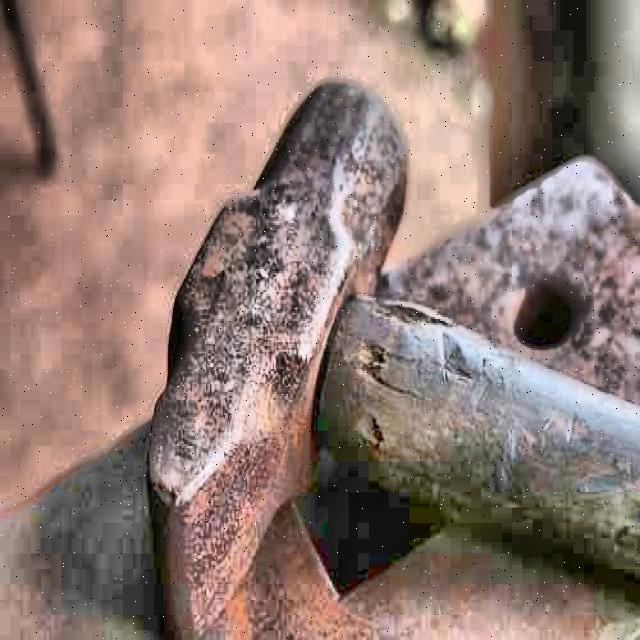hammer: (146, 81, 640, 625)
